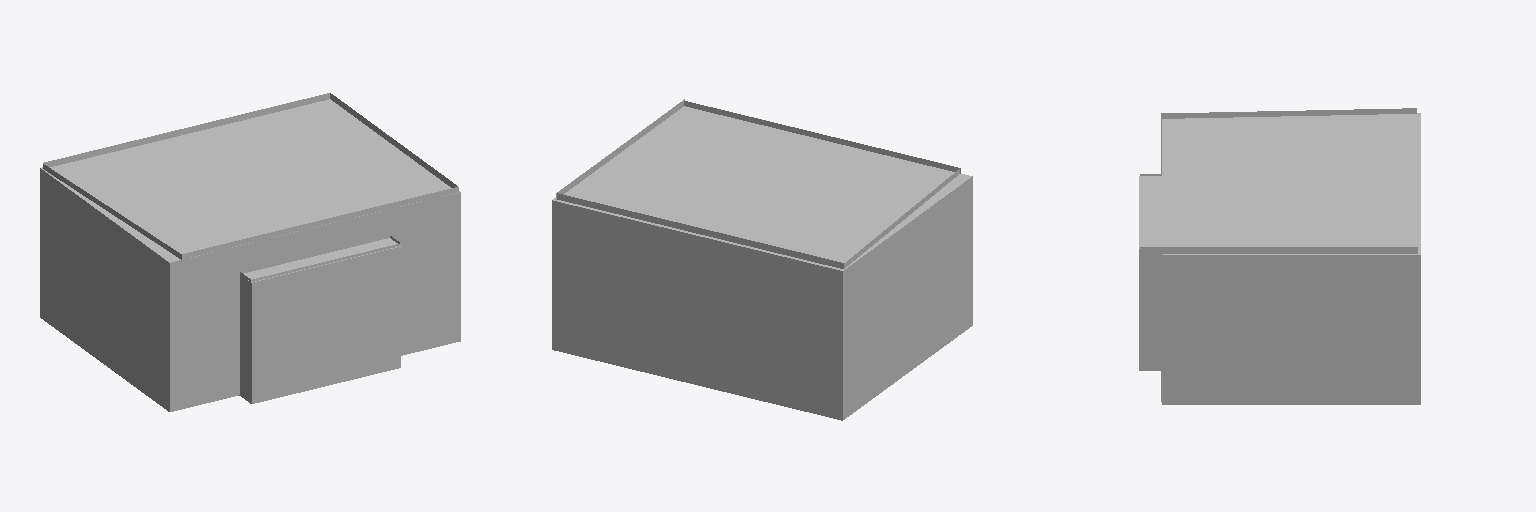
File: Building4.obj
3 renders of one model, left to right at view 1: azimuth 30°, elevation 25°; view 2: azimuth 150°, elevation 25°; view 3: azimuth 270°, elevation 25°, orthographic.
Parts seen in each view (by area): view 1: Building4_base_-col, Building4_mod_-col, TCom_BuildingsHouseOld0323_1_S, BLDNG4_base_msh, TCom_BuildingsDerelict0123_2_S, TCom_BuildingsDerelict0123_1_S; view 2: Building4_base_-col, TCom_BuildingsHouseOld0323_1_S, BLDNG4_base_msh, TCom_BuildingsDerelict0123_2_S, TCom_BuildingsDerelict0123_1_S; view 3: Building4_base_-col, Building4_mod_-col, TCom_BuildingsDerelict0123_2_S, TCom_BuildingsDerelict0123_1_S.
Part boxes in pixels (bbox=[...]): Building4_base_-col: bbox=[40, 99, 460, 411]; Building4_mod_-col: bbox=[239, 238, 400, 403]; TCom_BuildingsHouseOld0323_1_S: bbox=[43, 93, 329, 167]; BLDNG4_base_msh: bbox=[182, 187, 458, 259]; TCom_BuildingsDerelict0123_2_S: bbox=[330, 93, 457, 187]; TCom_BuildingsDerelict0123_1_S: bbox=[43, 164, 181, 259]; Building4_base_-col: bbox=[552, 106, 972, 420]; TCom_BuildingsHouseOld0323_1_S: bbox=[557, 193, 843, 268]; BLDNG4_base_msh: bbox=[684, 101, 960, 173]; TCom_BuildingsDerelict0123_2_S: bbox=[556, 99, 684, 199]; TCom_BuildingsDerelict0123_1_S: bbox=[844, 169, 959, 268]; Building4_base_-col: bbox=[1162, 113, 1420, 404]; Building4_mod_-col: bbox=[1139, 176, 1161, 370]; TCom_BuildingsDerelict0123_2_S: bbox=[1161, 247, 1417, 401]; TCom_BuildingsDerelict0123_1_S: bbox=[1161, 108, 1416, 173].
Size of the model in its own units: 7.85 by 4.05 by 6.6.